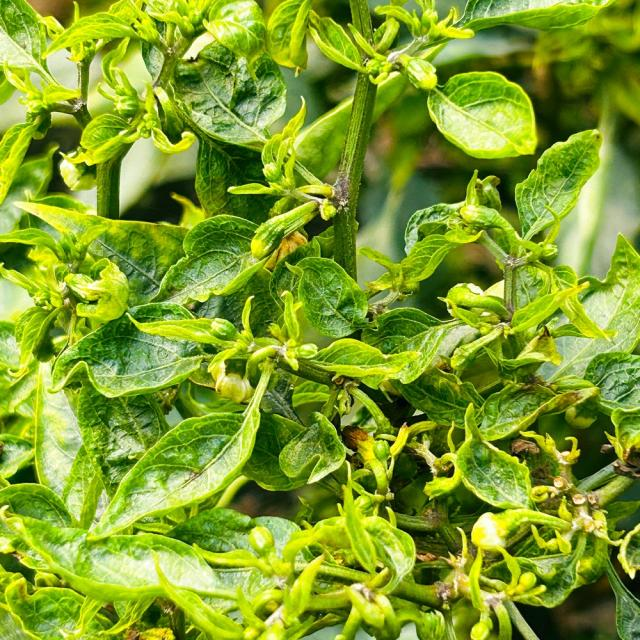Chilli_Leaf_Curl: (1, 1, 638, 638), (426, 69, 538, 160)
